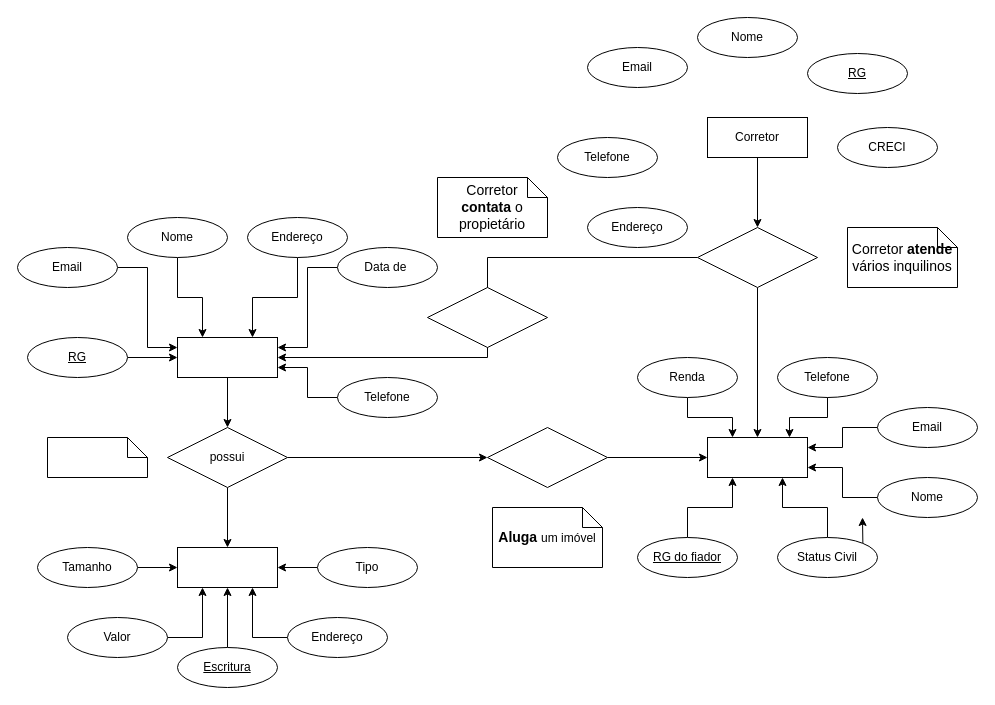
Image size: 995x705. Some labels were removed from this diagram. The box of each missing label's shape, as (x1, y1, x2, y2) in pixels:
Aluga: (486, 426, 608, 488)
Atender: (696, 226, 818, 288)
Contatar: (426, 286, 548, 348)
Imóveis: (176, 546, 278, 588)
Inquilino: (706, 436, 808, 478)
Proprietá rio: (176, 336, 278, 378)
Um proprietário possui imóveis: (46, 436, 148, 478)
